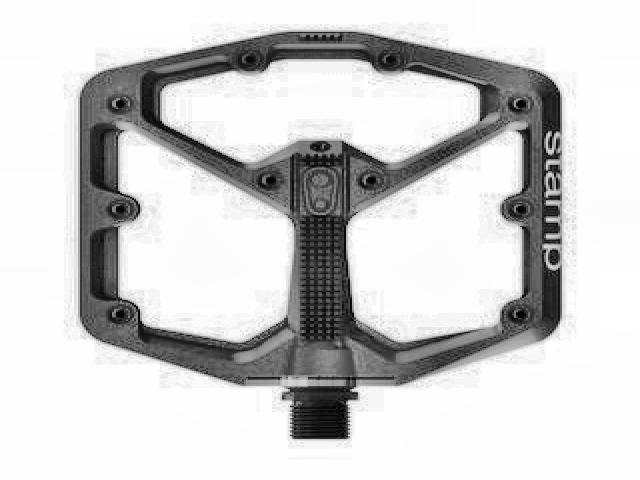pedal: (73, 27, 567, 442)
